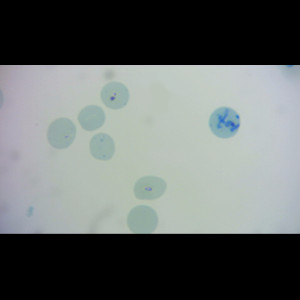aggregate reticulocyte: (208, 105, 242, 140)
erythrocyte: (45, 116, 77, 150), (125, 204, 160, 234), (132, 174, 169, 201), (99, 81, 131, 111), (77, 104, 107, 132)
punctate reticulocyte: (88, 132, 117, 162)
